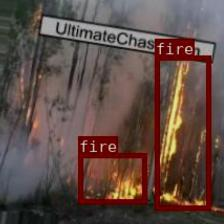fire: (154, 55, 210, 210), (78, 152, 146, 203)
